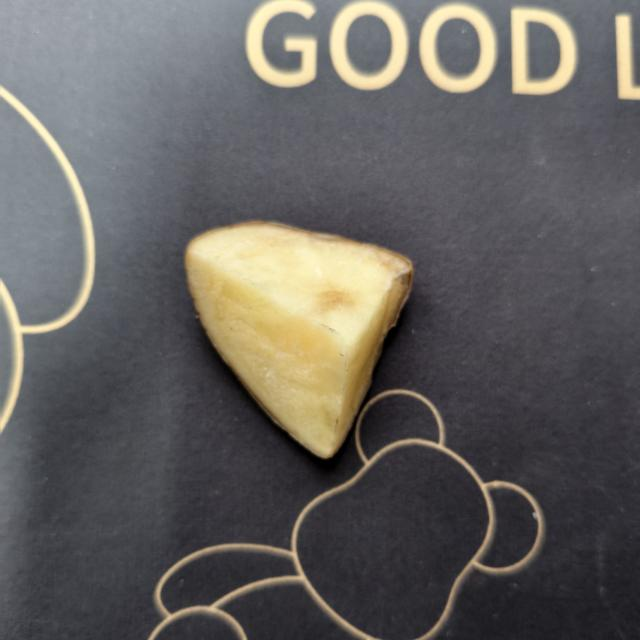-Kitchen waste - potato-: (183, 210, 417, 462)
